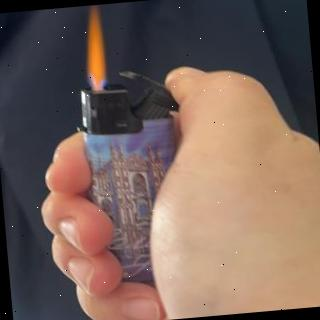fire: (80, 4, 112, 88)
